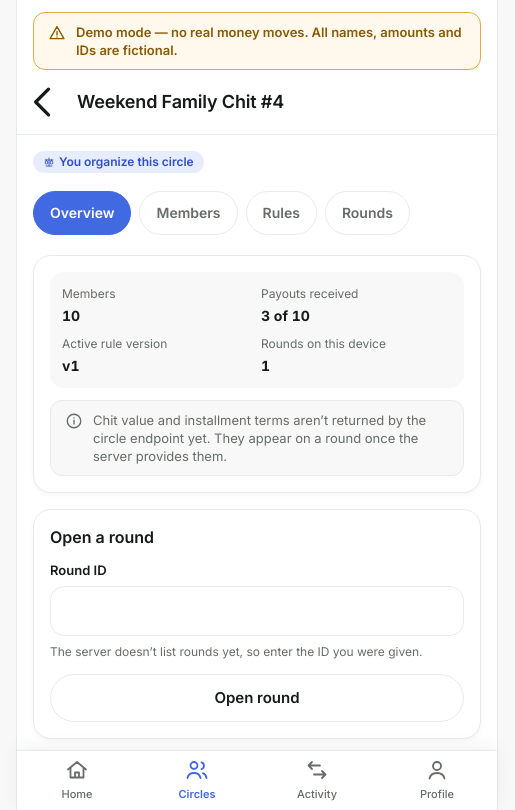
Test: Circle details › organizers see security status
Expected: the text "You organize this circle" is shown, [33,151,204,173]
Click the tab "Members" at (189,213), box [140,191,238,235]
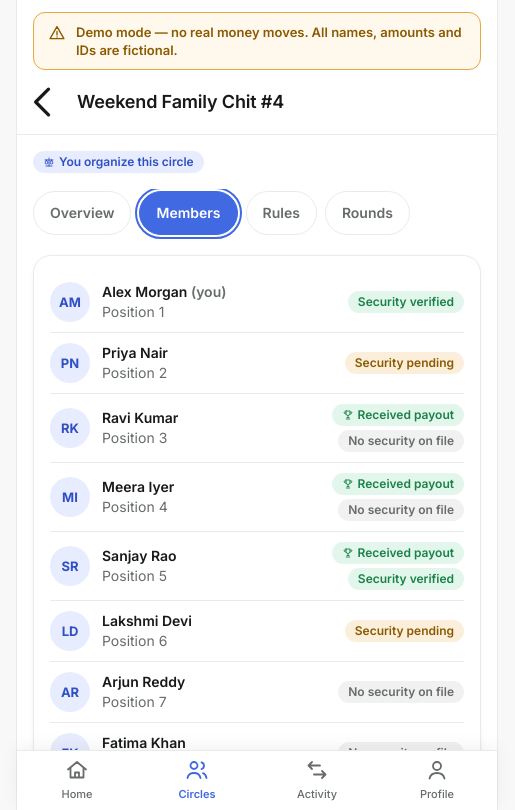
Result: the text "Security verified" in the row of "Alex Morgan" is shown at [358,294,454,309]
